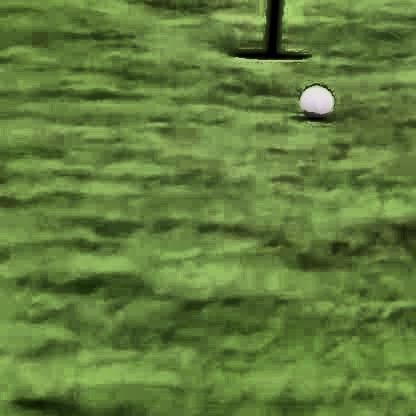golfball: (298, 79, 329, 115)
